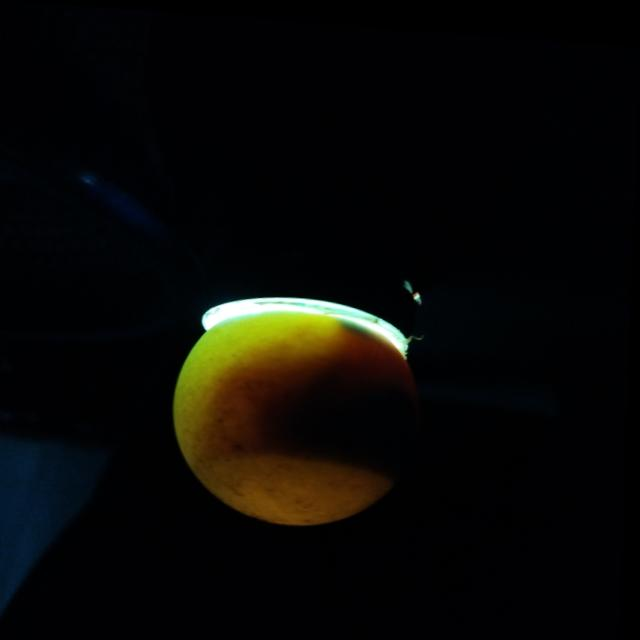Area Infectada: (200, 314, 420, 476)
